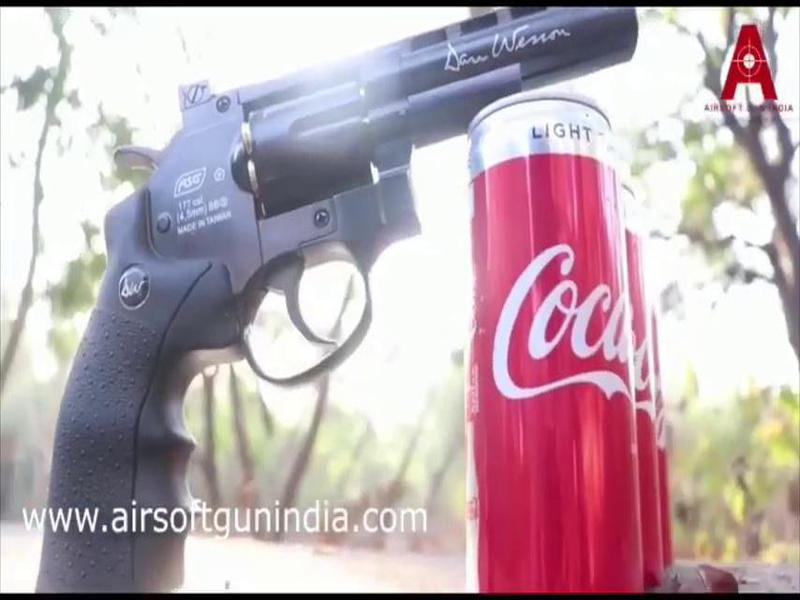Revolver: (40, 7, 684, 577)
